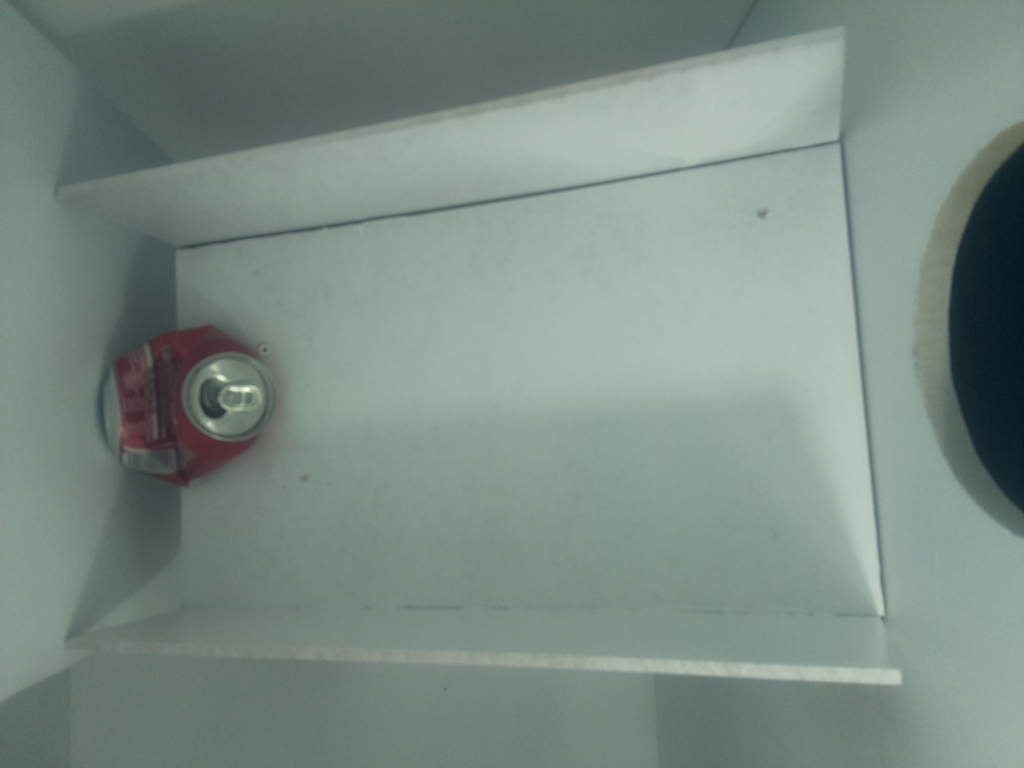kaleng: (98, 322, 277, 485)
